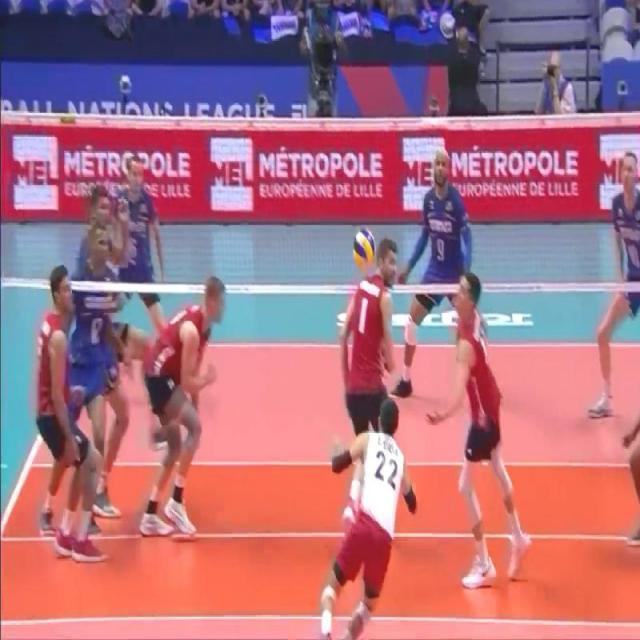volleyball: (352, 226, 375, 273)
